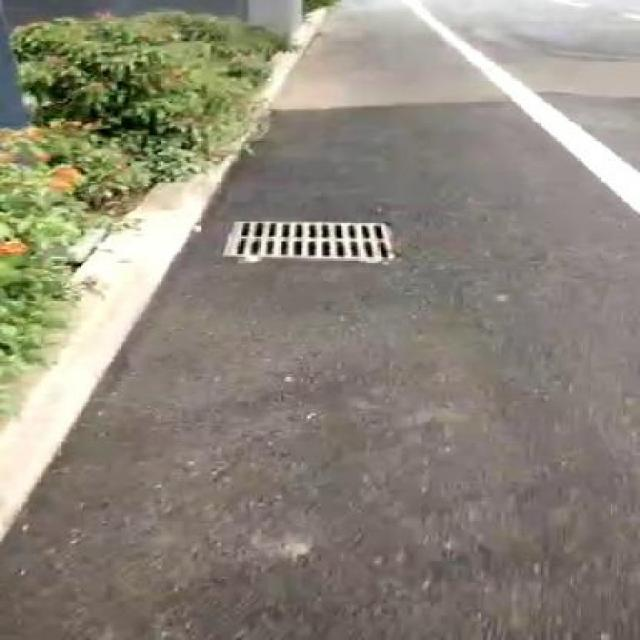Manhole: (224, 216, 404, 269)
